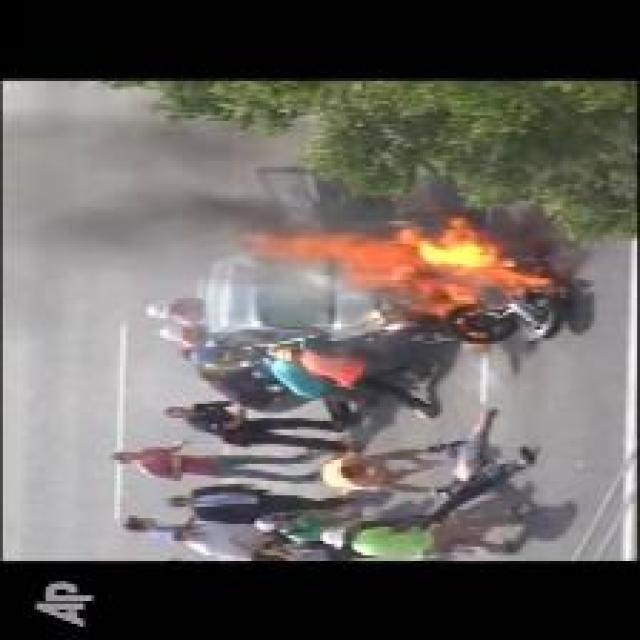Fire: (257, 212, 549, 318)
